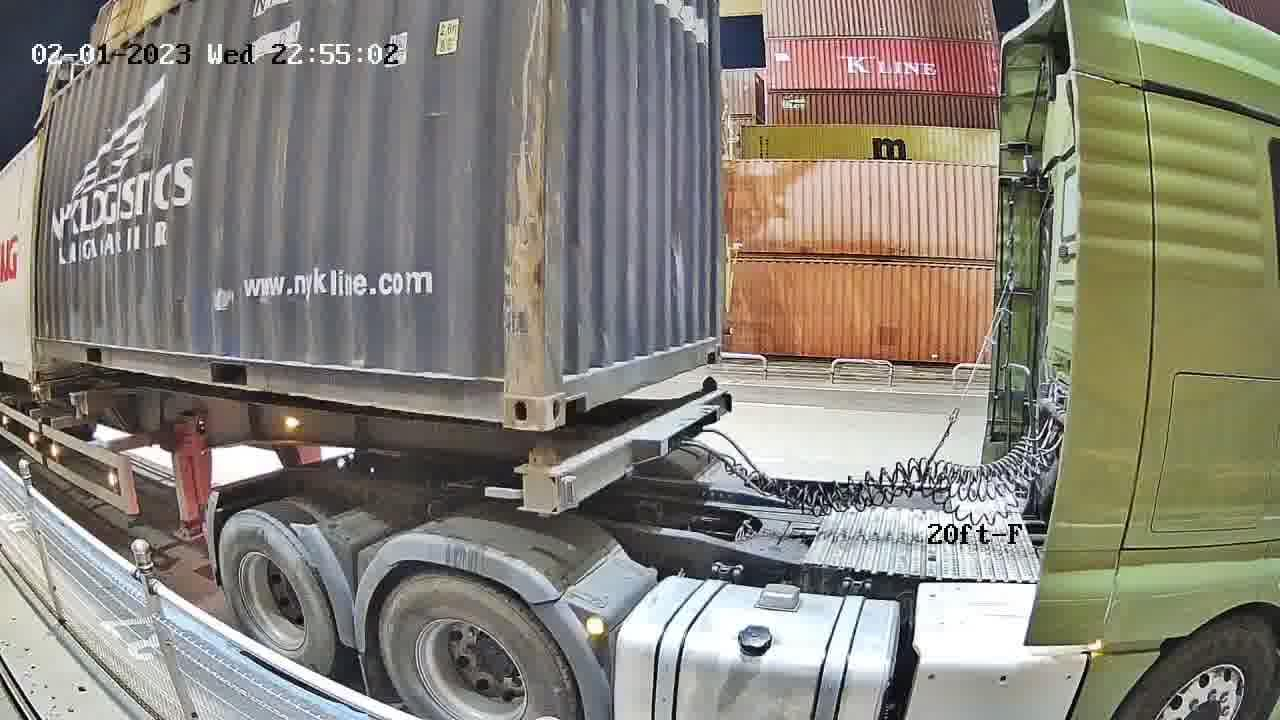Chassis: (514, 388, 730, 514)
Cone: (527, 447, 560, 514), (701, 375, 721, 393)
Hole_L: (544, 345, 597, 432)
Hole_R: (474, 350, 543, 429), (701, 329, 722, 366)
Tire: (380, 575, 573, 719), (219, 510, 333, 684)
